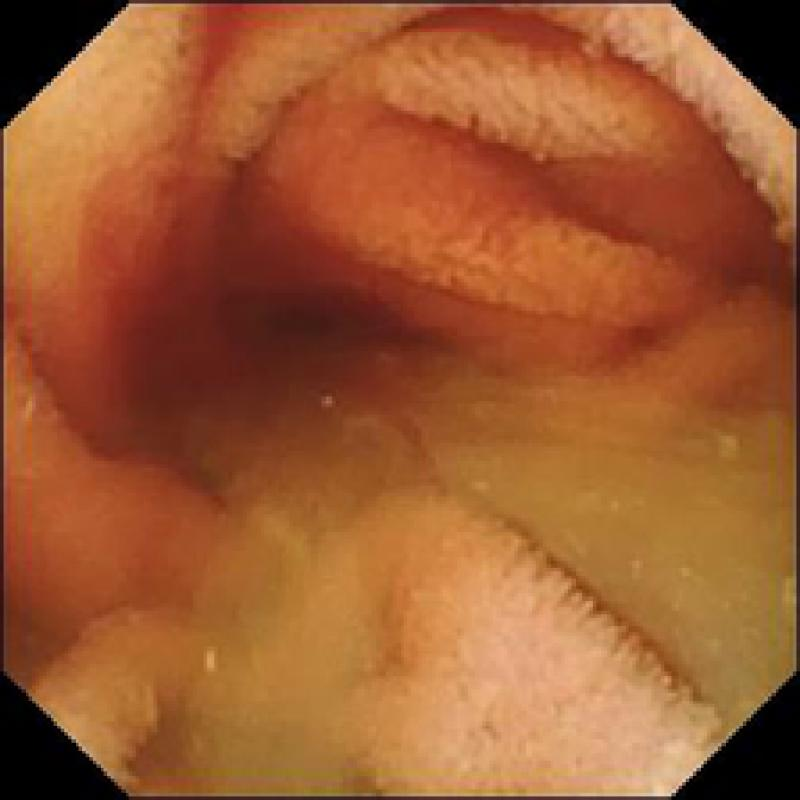bleeding: (43, 4, 800, 482)
